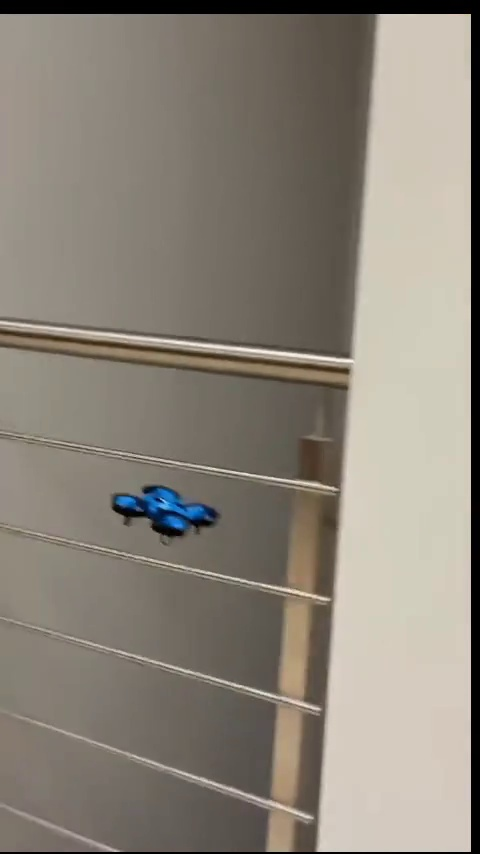drone: (114, 484, 218, 543)
